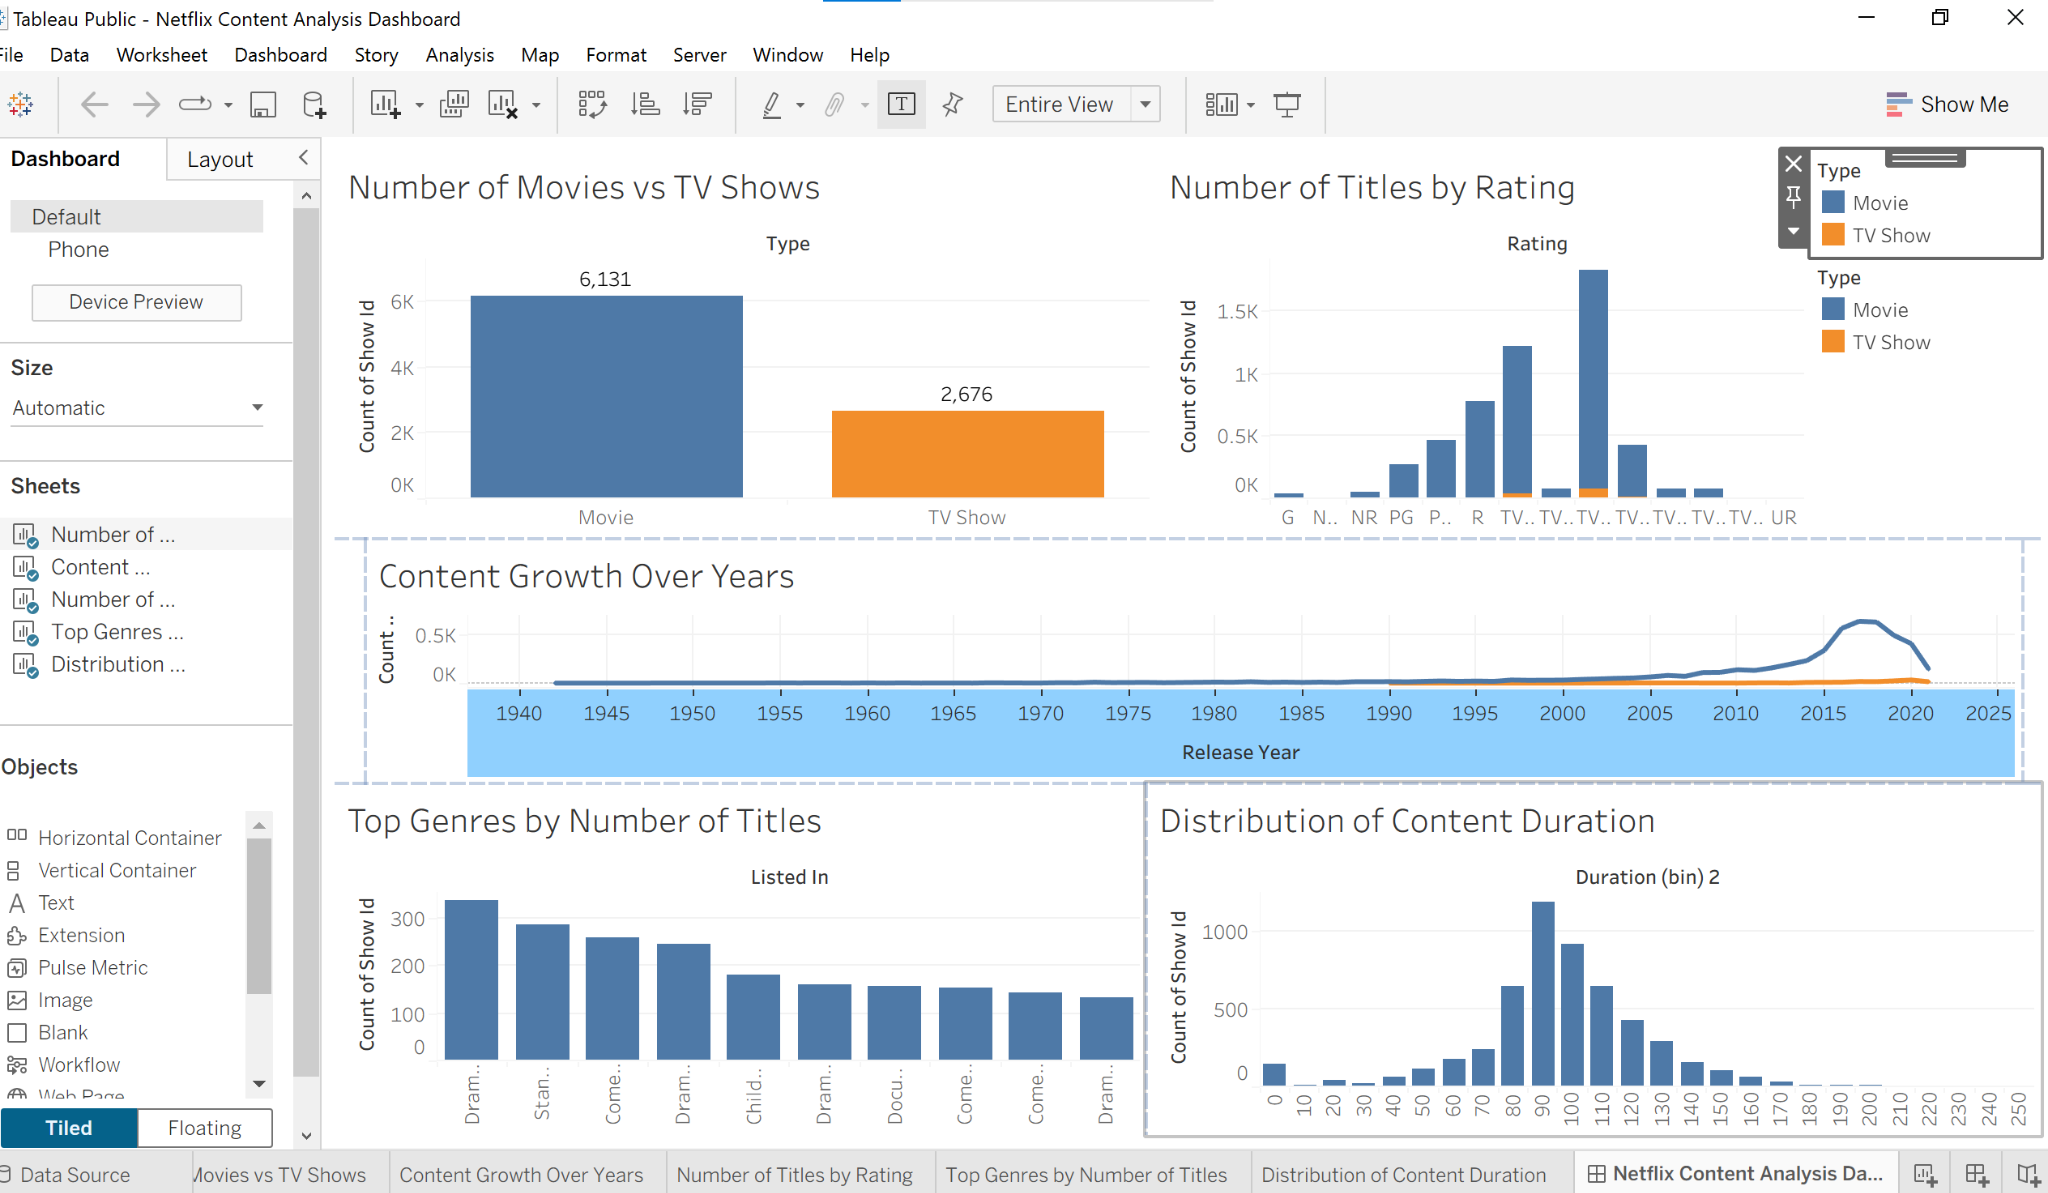

The dashboard page shown, as its layout file describes it:
{"tool":"tableau","page":{"name":"Netflix Content Analysis Dashboard","canvas":[1000,1000],"units":"permille","ordinal":0},"visuals":[{"type":"worksheet","title":"Number of Movies vs TV Shows","mark":"Bar","rows":["show_id"],"cols":["type"],"box":[7.5,12.8,474.4,384.6]},{"type":"worksheet","title":"Number of Titles by Rating","mark":"Bar","rows":["show_id"],"cols":["rating"],"box":[481.9,12.8,377.8,384.6]},{"type":"legend","title":"Number of Movies vs TV Shows","param":"[federated.0qxp0nz1xzgxmf17azfqi1ptgrf2].[none:type:nk]","box":[859.7,12.8,132.8,105.8]},{"type":"legend","title":"Number of Titles by Rating","param":"[federated.0d13fc410bip2o184rlmi1t5rhzd].[none:type:nk]","box":[859.7,118.6,132.8,105.8]},{"type":"worksheet","title":"Content Growth Over Years","mark":"Line","rows":["show_id"],"cols":["release_year"],"box":[25.6,397.4,956.4,242]},{"type":"worksheet","title":"Top Genres by Number of Titles","mark":"Bar","rows":["show_id"],"cols":["listed_in"],"box":[7.5,639.4,469.1,347.8]},{"type":"worksheet","title":"Distribution of Content Duration","mark":"Automatic","rows":["show_id"],"cols":["Duration (bin) 2"],"box":[476.6,639.4,515.9,347.8]}]}

Visuals, with their boxes on the dashboard's canvas, which has no fixed pixel size, in thousandths of its width and height (x1, y1, x2, y2). These are canvas units, not pixel positions in the 2048x1193 screenshot, which may show the page scaled, cropped or inside an application window:
"Number of Movies vs TV Shows" worksheet (Bar marks): rect(8, 13, 482, 397)
"Number of Titles by Rating" worksheet (Bar marks): rect(482, 13, 860, 397)
"Number of Movies vs TV Shows" legend: rect(860, 13, 992, 119)
"Number of Titles by Rating" legend: rect(860, 119, 992, 224)
"Content Growth Over Years" worksheet (Line marks): rect(26, 397, 982, 639)
"Top Genres by Number of Titles" worksheet (Bar marks): rect(8, 639, 477, 987)
"Distribution of Content Duration" worksheet: rect(477, 639, 992, 987)
